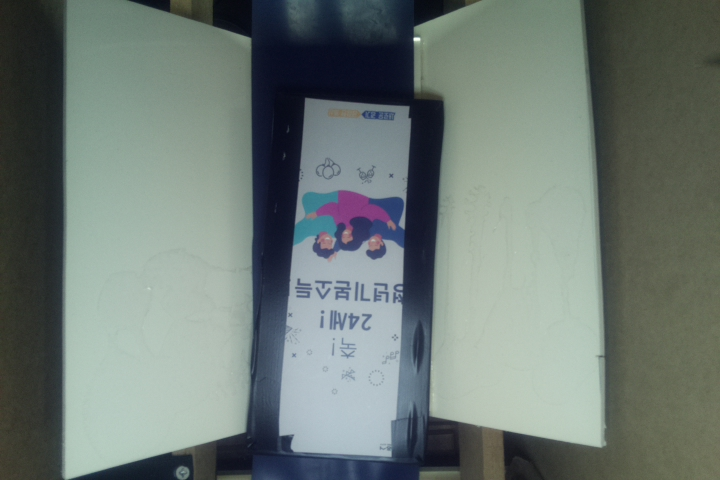book: (246, 91, 448, 467)
